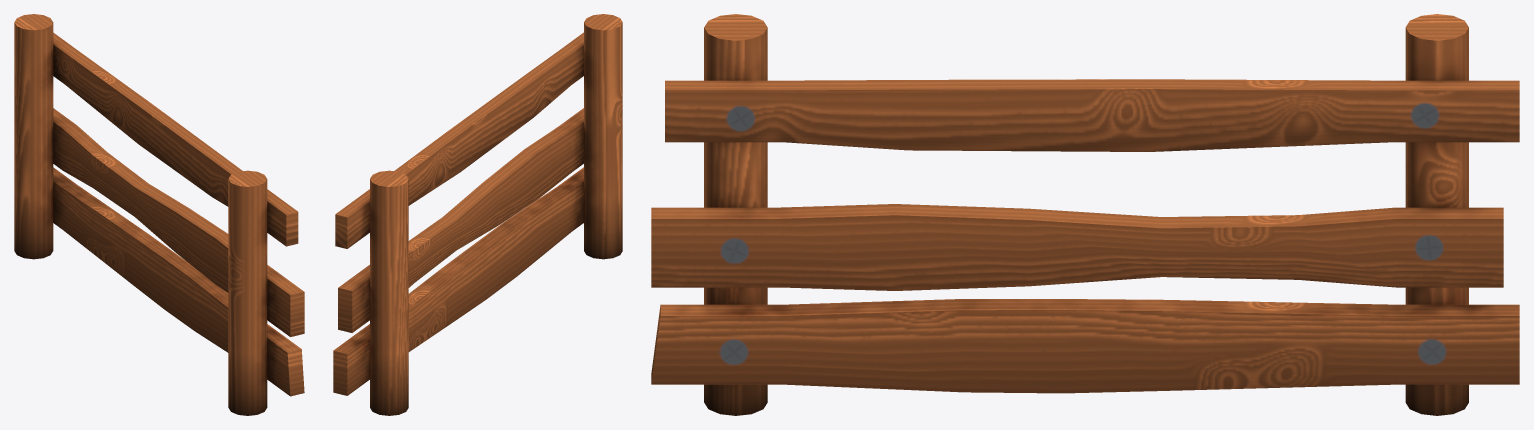
File: Fence2.fbx
3 views of the same model, side by side, from view 1: azimuth 30°, elevation 25°; view 2: azimuth 150°, elevation 25°; view 3: azimuth 270°, elevation 25° (orthographic). The views are drawn at different scales.
Parts seen in each view (by area): view 1: Fence2; view 2: Fence2; view 3: Fence2.
Boxes of the visible parts, left/top/right/bottom form: Fence2: left=14, top=14, right=304, bottom=415; Fence2: left=333, top=14, right=622, bottom=415; Fence2: left=651, top=14, right=1519, bottom=415.
Bounding box in the file's own units: 25.78 × 118 × 248.
1 material, 1 textured.
